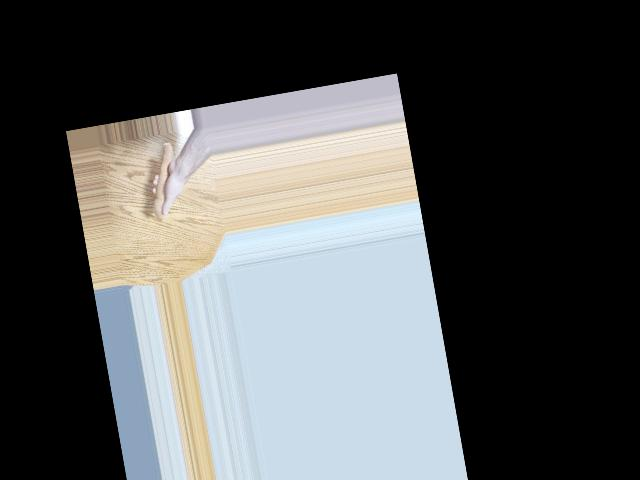sweet_potato: (140, 140, 186, 220)
